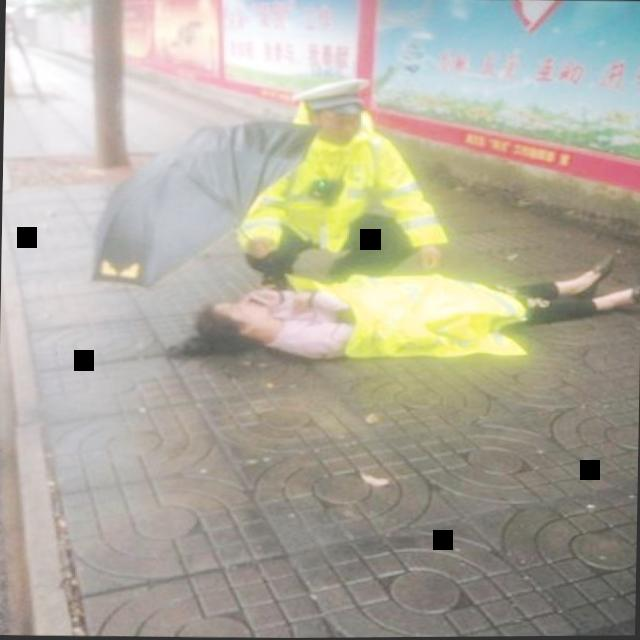Fall-Detected: (155, 243, 640, 373)
